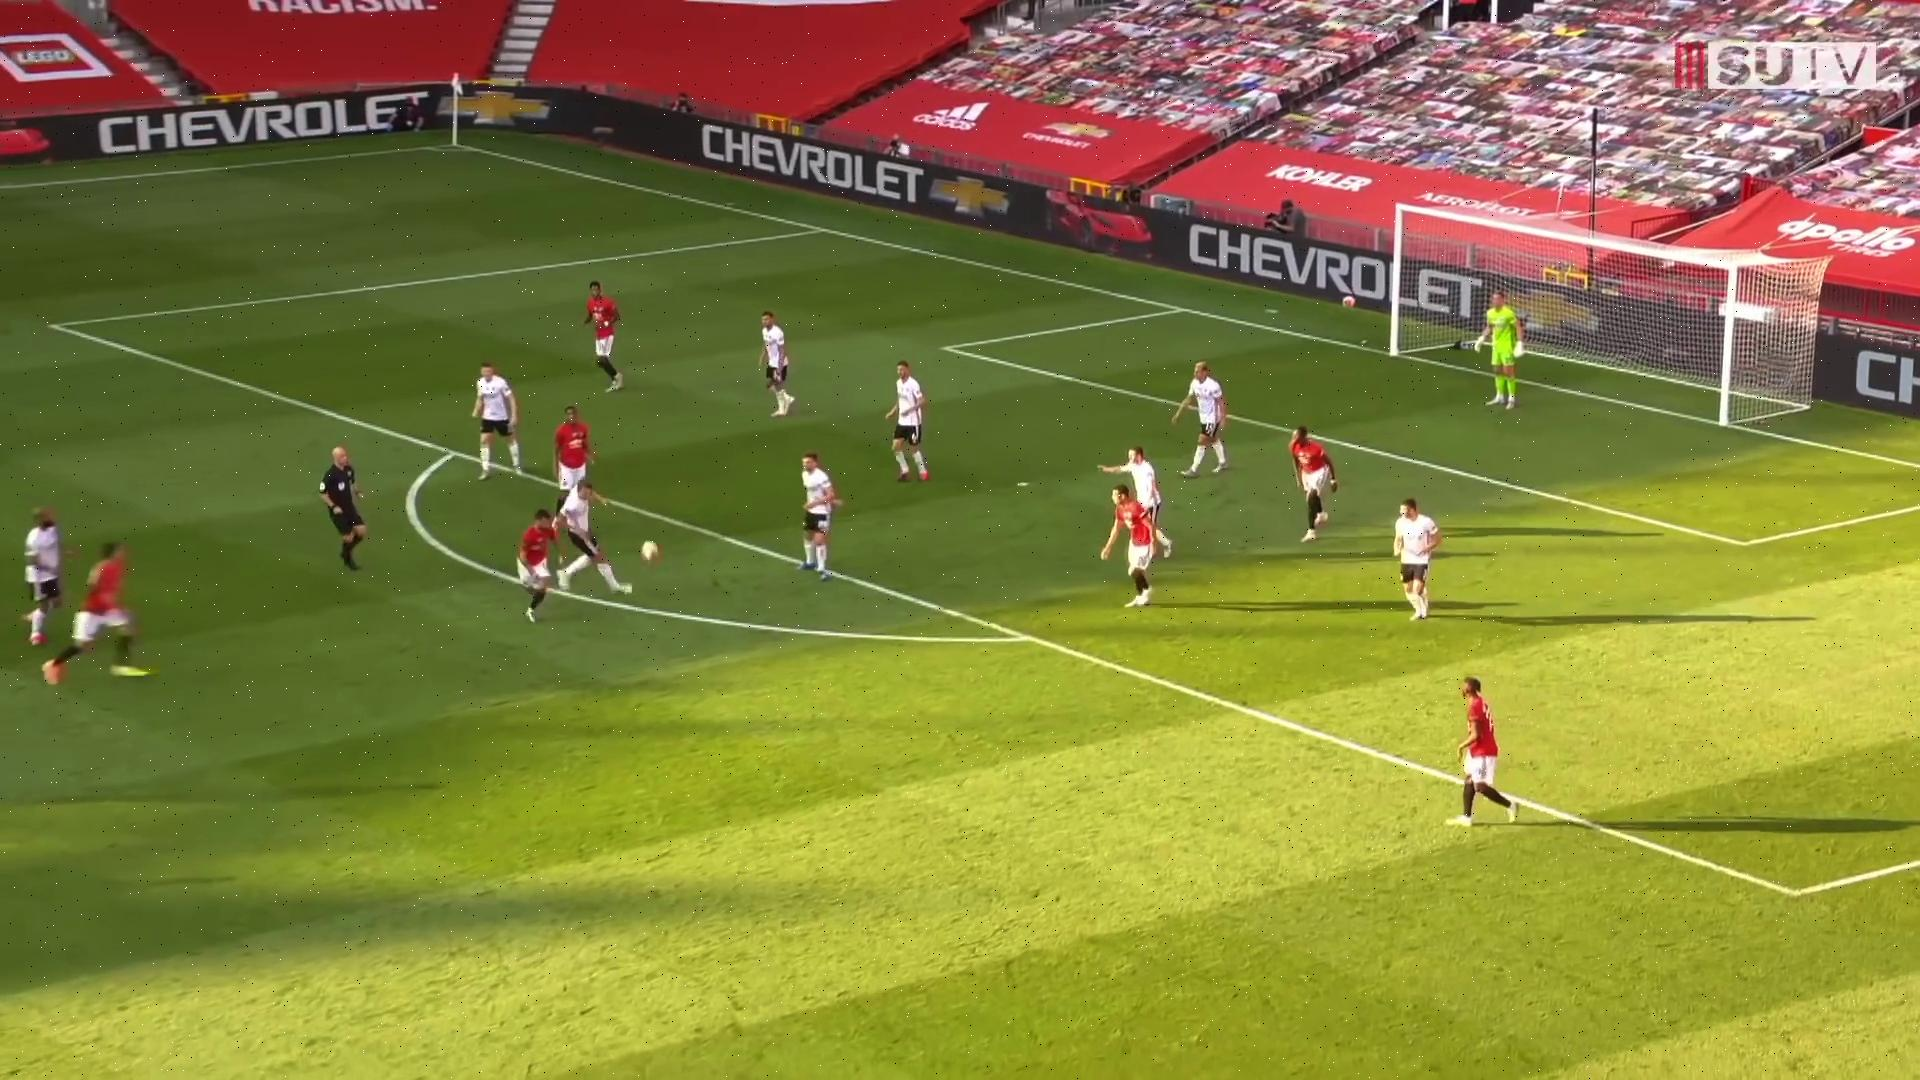ball: (638, 542, 665, 566)
